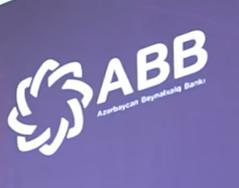ABB: (5, 57, 94, 157)
